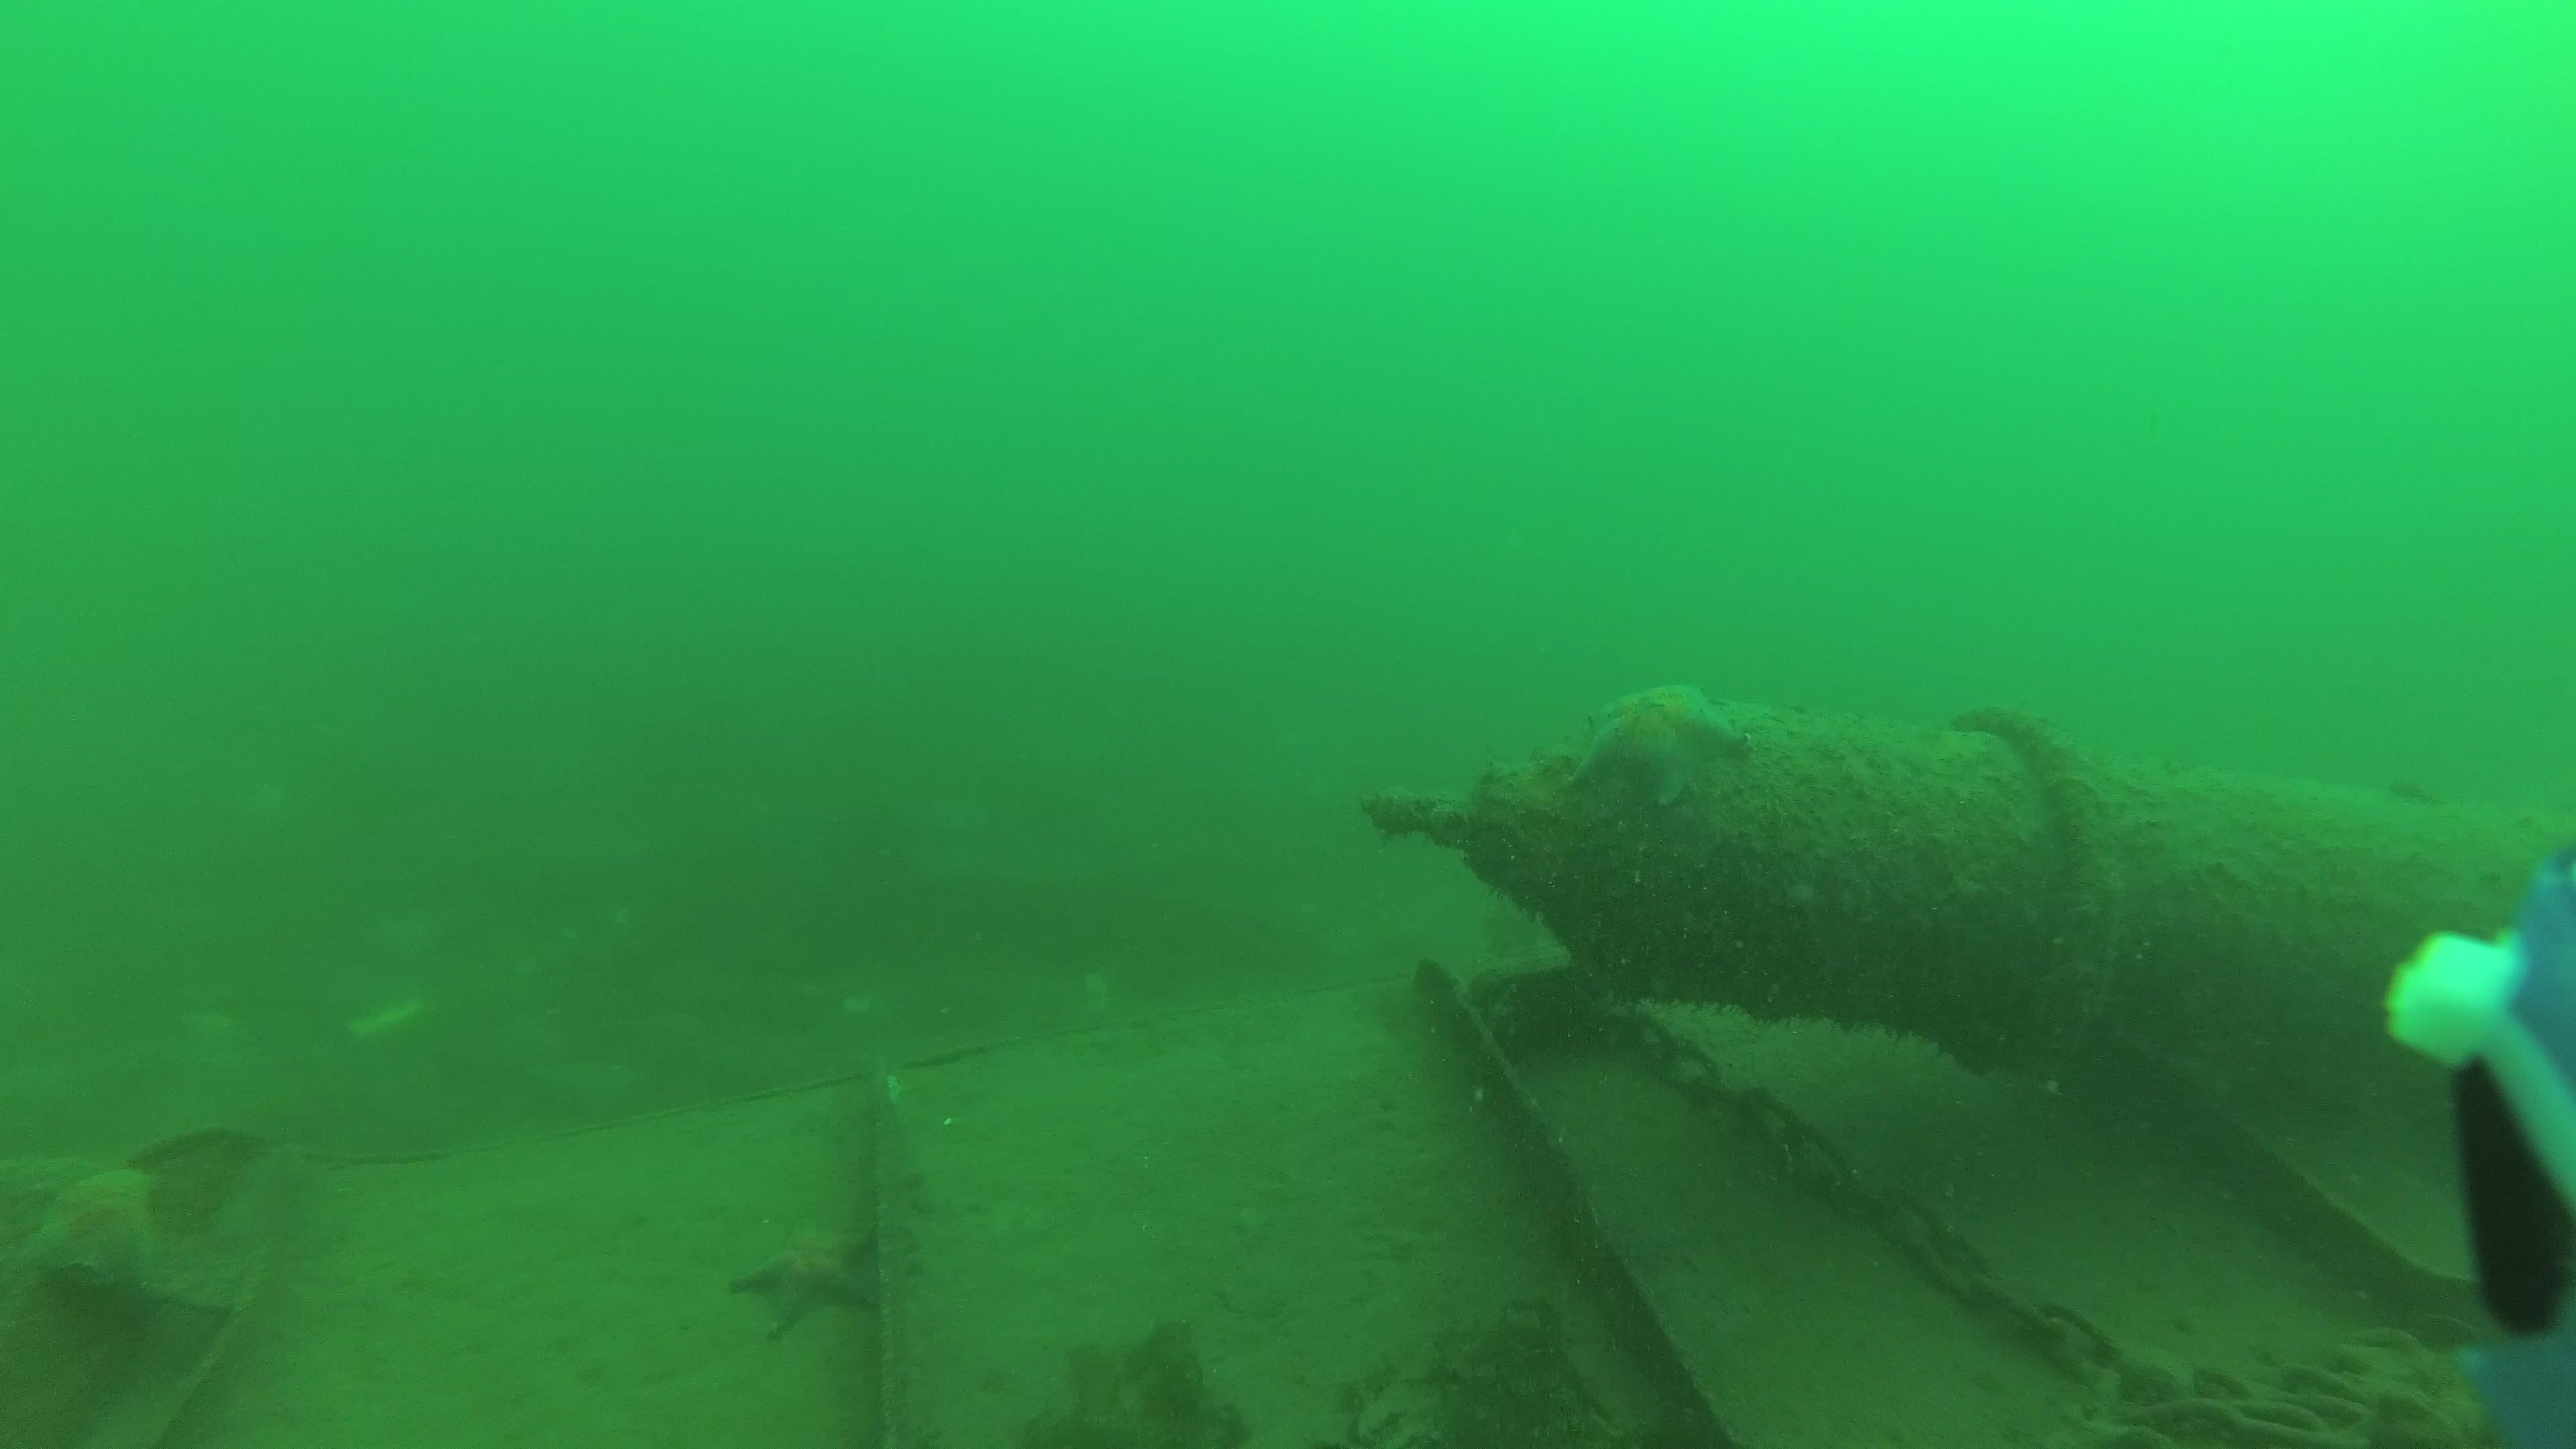scallop: (1560, 679, 1757, 816), (729, 1221, 885, 1338)
starfish: (30, 1169, 165, 1288)
